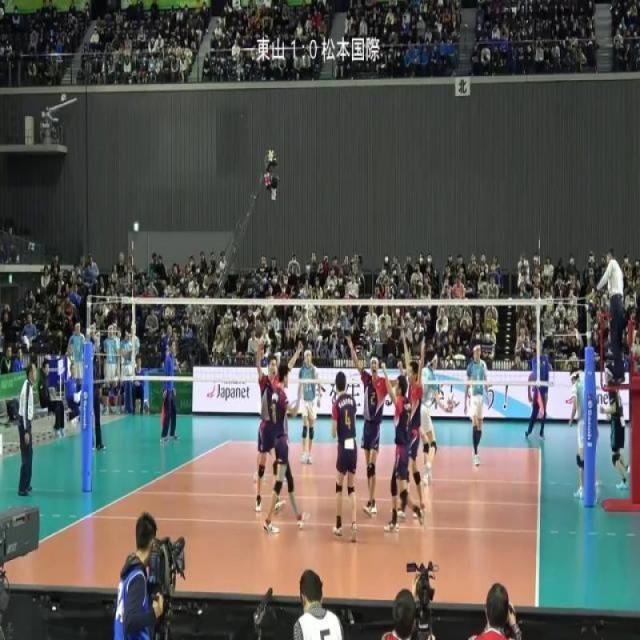volleyball: (446, 392, 456, 411)
